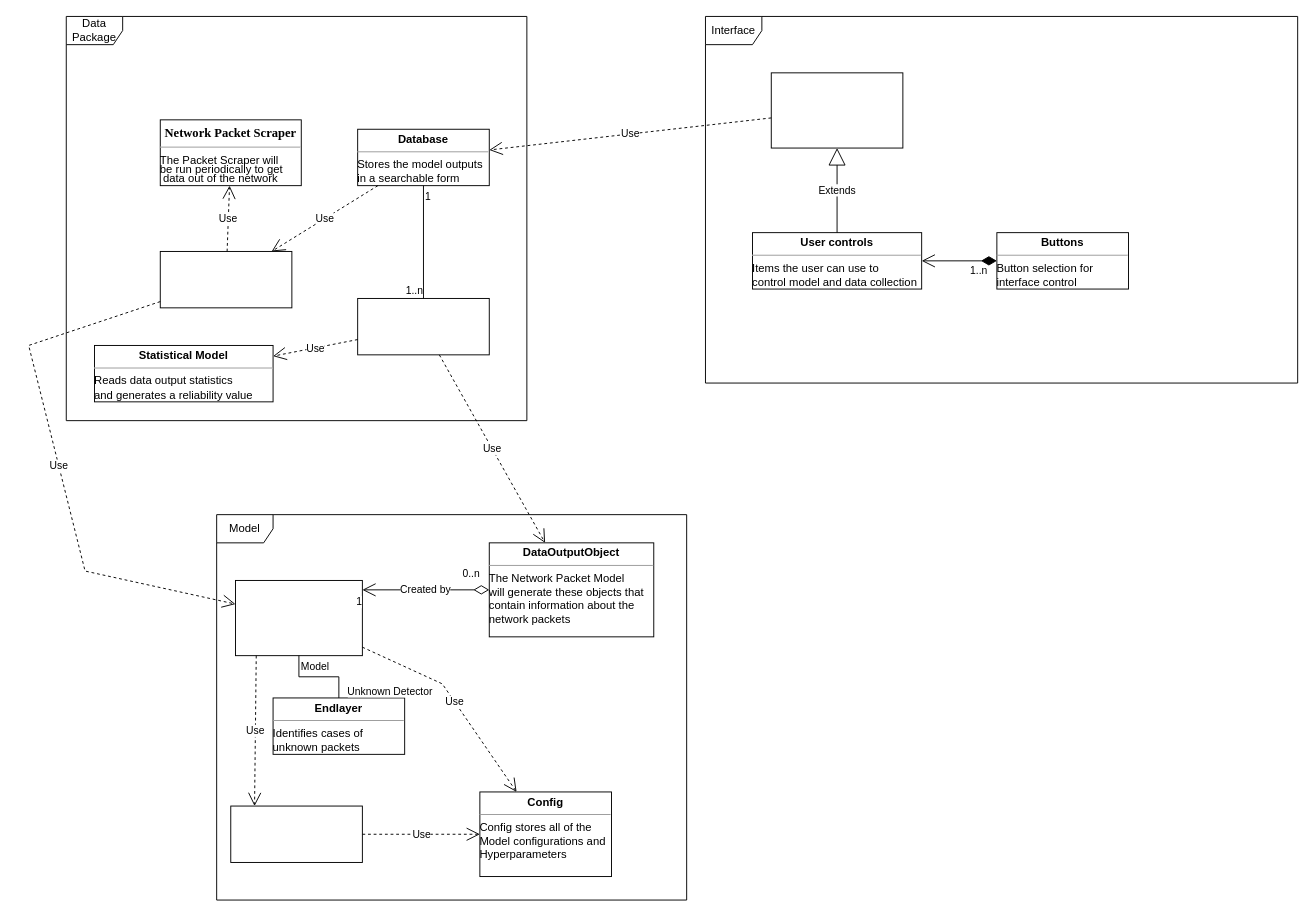
This 1314x917 diagram has some shape labels left out. The shapes that lost their labels are listed below. From the top down, each one's box as (x1, y1, x2, y2) in pixels, then its label:
(770, 72, 903, 148): GUI Displays data from the database in a graphical format
(159, 251, 292, 308): Data Transfomer Transforms data into the correct formats
(357, 298, 489, 355): Model Transformer Sends data to the model to transform it
(235, 580, 362, 656): Network Packet Model Reads detected network packets and assigns classes to them
(230, 805, 362, 862): DataLoader Dataloader loads network data for model training
